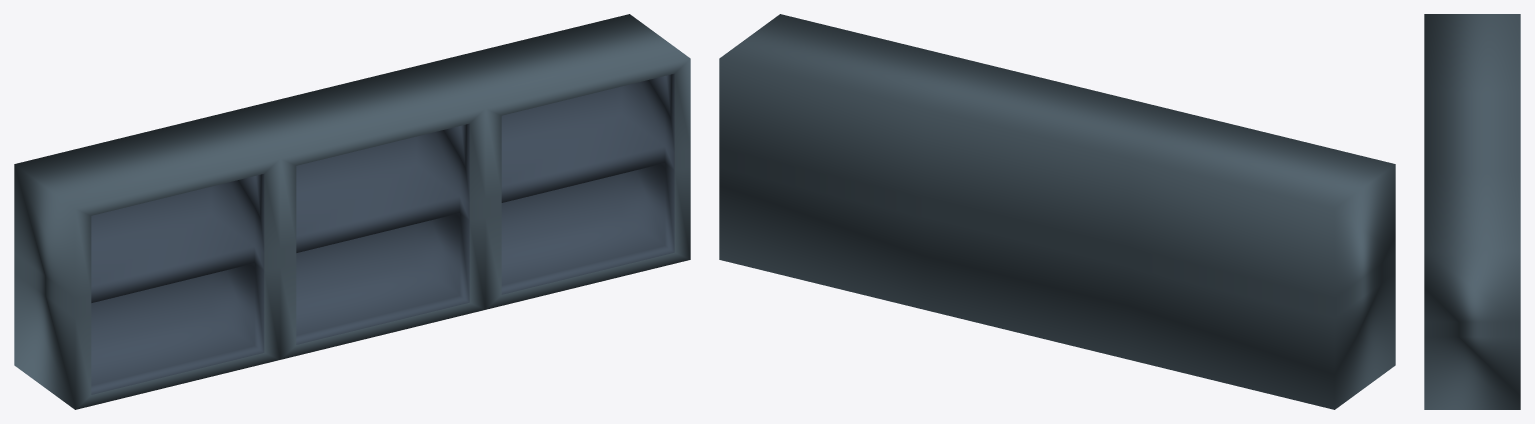
File: Cabinets_kitchen_v1.fbx
The picture shows the model from 3 angles, left to right: view 1: azimuth 30°, elevation 25°; view 2: azimuth 150°, elevation 25°; view 3: azimuth 270°, elevation 25°; orthographic projection. The views are drawn at different scales.
Parts seen in each view (by area): view 1: Cube.001; view 2: Cube.001; view 3: Cube.001.
Part boxes in pixels (<box>): Cube.001: <box>14,14,690,409</box>; Cube.001: <box>719,14,1395,409</box>; Cube.001: <box>1424,14,1520,409</box>.
Size of the model in its own units: 193 by 60.32 by 33.15.
